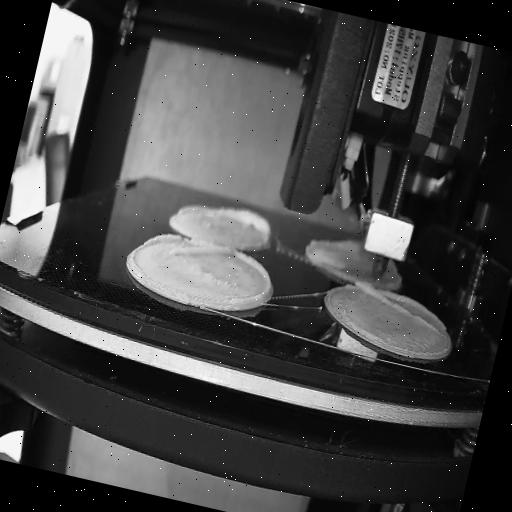over_extrusion: (346, 280, 448, 340), (141, 228, 232, 272), (221, 250, 277, 312), (210, 202, 278, 248), (308, 230, 362, 261), (174, 198, 212, 224)
